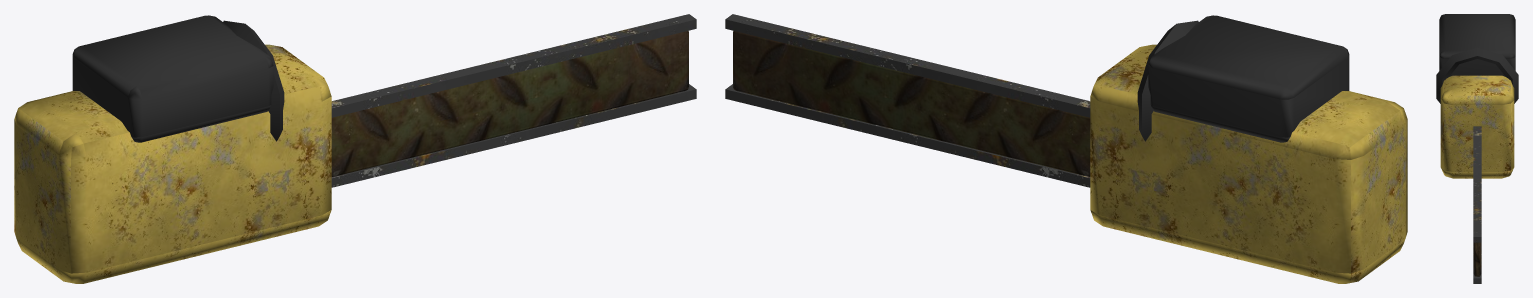
Rendered from held_tool_chainsaw.glb.
3 renders of one model, left to right at view 1: azimuth 30°, elevation 25°; view 2: azimuth 150°, elevation 25°; view 3: azimuth 270°, elevation 25°, orthographic. The views are drawn at different scales.
Visible parts, largest first — view 1: box, box.002, box.001, box.003, box.004, torus; view 2: box, box.002, box.001, box.003, box.004, torus; view 3: box, box.001, torus, box.003, box.002, box.004.
Part boxes in pixels (x1,y1,x2,y2): box: (14, 44, 331, 283); box.002: (331, 31, 688, 176); box.001: (72, 15, 273, 142); box.003: (331, 14, 696, 117); box.004: (331, 84, 696, 187); torus: (223, 20, 284, 141); box: (1090, 44, 1407, 283); box.002: (733, 31, 1090, 176); box.001: (1148, 15, 1349, 142); box.003: (725, 14, 1090, 117); box.004: (725, 84, 1090, 187); torus: (1137, 20, 1198, 141); box: (1440, 75, 1514, 178); box.001: (1439, 14, 1515, 76); torus: (1436, 47, 1518, 103); box.003: (1473, 126, 1481, 242); box.002: (1473, 242, 1481, 276); box.004: (1473, 243, 1481, 283).
Size of the model in its own units: 0.725 by 0.21 by 0.1331.
4 materials, 3 textured.
